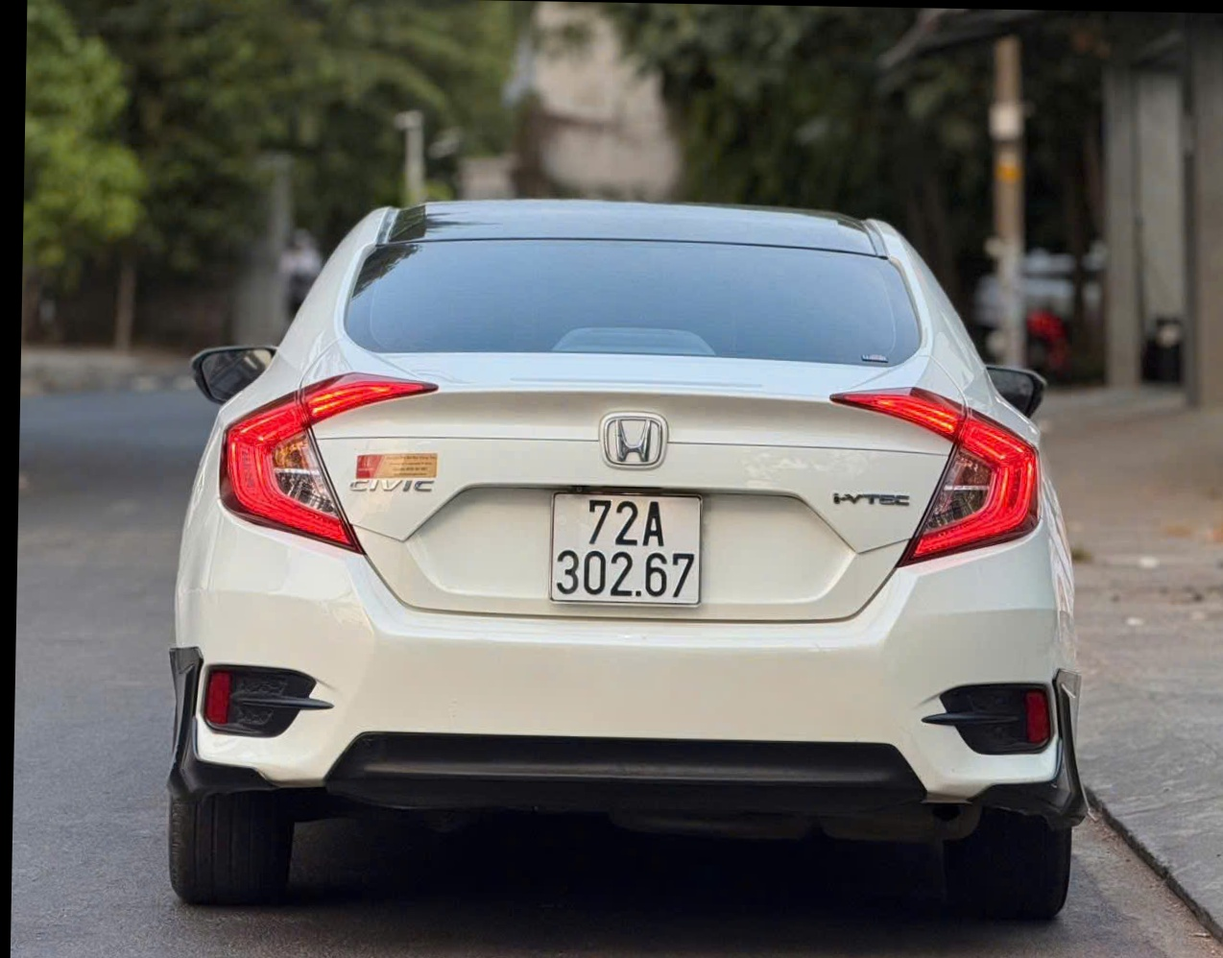Bien-so: (544, 487, 707, 614)
